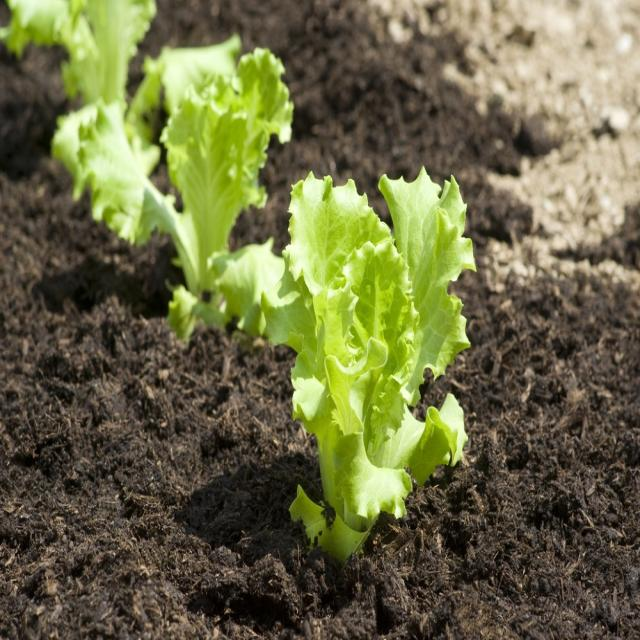inmadura: (263, 167, 474, 561)
verde: (143, 49, 292, 338)
